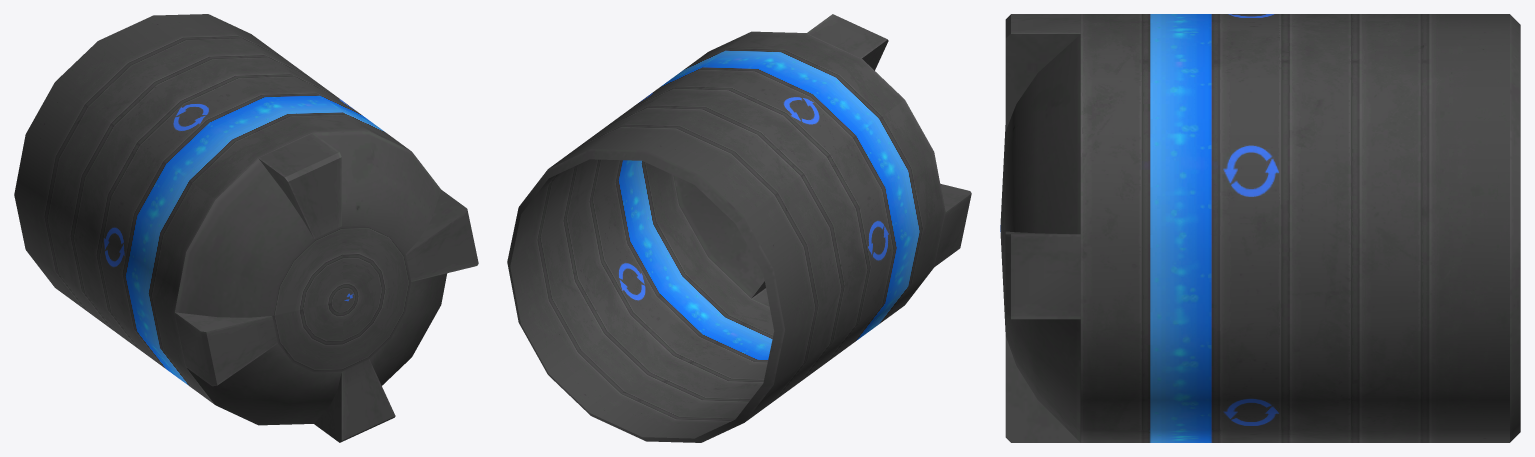
The model's file is nt_water_barrel_LOD0.obj.
3 views of the same model, side by side, from view 1: azimuth 30°, elevation 25°; view 2: azimuth 150°, elevation 25°; view 3: azimuth 270°, elevation 25° (orthographic). The views are drawn at different scales.
Parts seen in each view (by area): view 1: mtl_nt_water_barrel; view 2: mtl_nt_water_barrel; view 3: mtl_nt_water_barrel.
Boxes of the visible parts, <box> form: mtl_nt_water_barrel: <box>14,14,478,442</box>; mtl_nt_water_barrel: <box>507,14,971,442</box>; mtl_nt_water_barrel: <box>1000,14,1520,442</box>.
Size of the model in its own units: 102 by 102 by 123.
